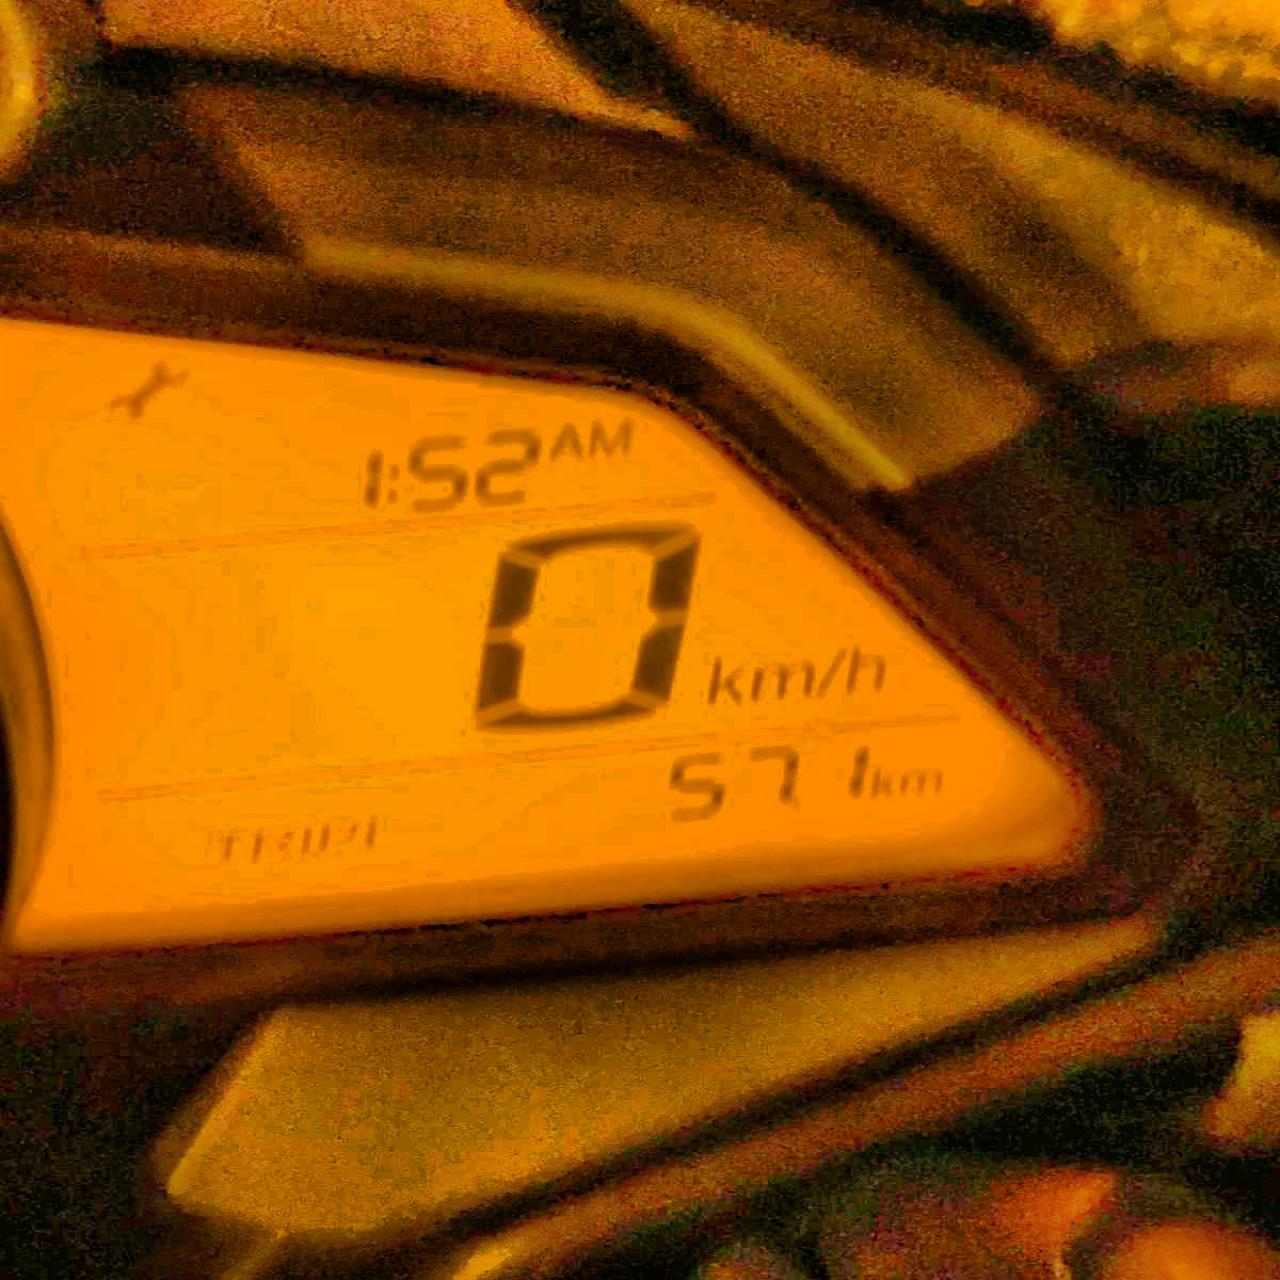0: (465, 520, 683, 730)
1: (839, 742, 872, 805), (359, 443, 383, 512)
2: (476, 429, 539, 505)
5: (409, 437, 467, 511), (668, 749, 730, 817)
7: (751, 740, 806, 805)
X: (751, 659, 813, 701), (697, 652, 744, 704), (849, 639, 892, 693), (319, 812, 359, 863), (250, 816, 291, 862), (204, 817, 244, 863), (586, 418, 633, 457), (815, 641, 846, 692), (549, 421, 586, 459), (899, 768, 945, 796), (295, 815, 318, 863), (873, 769, 899, 797)
odometer: (0, 308, 1098, 961)
